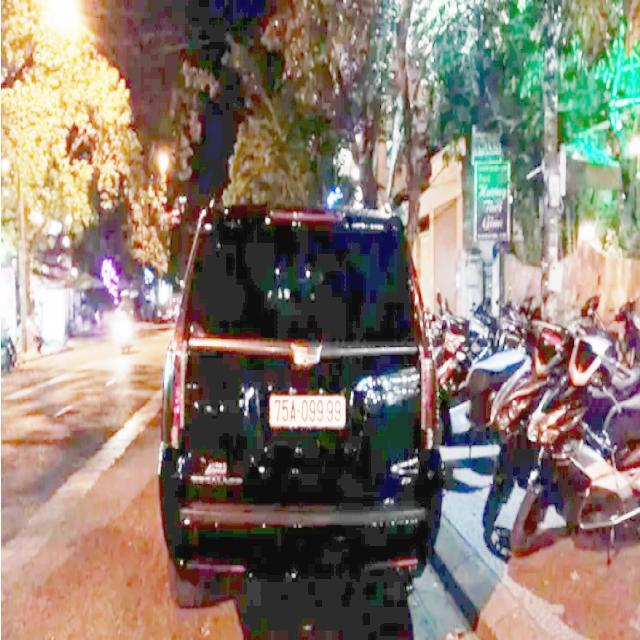license_plate: (270, 395, 346, 428)
